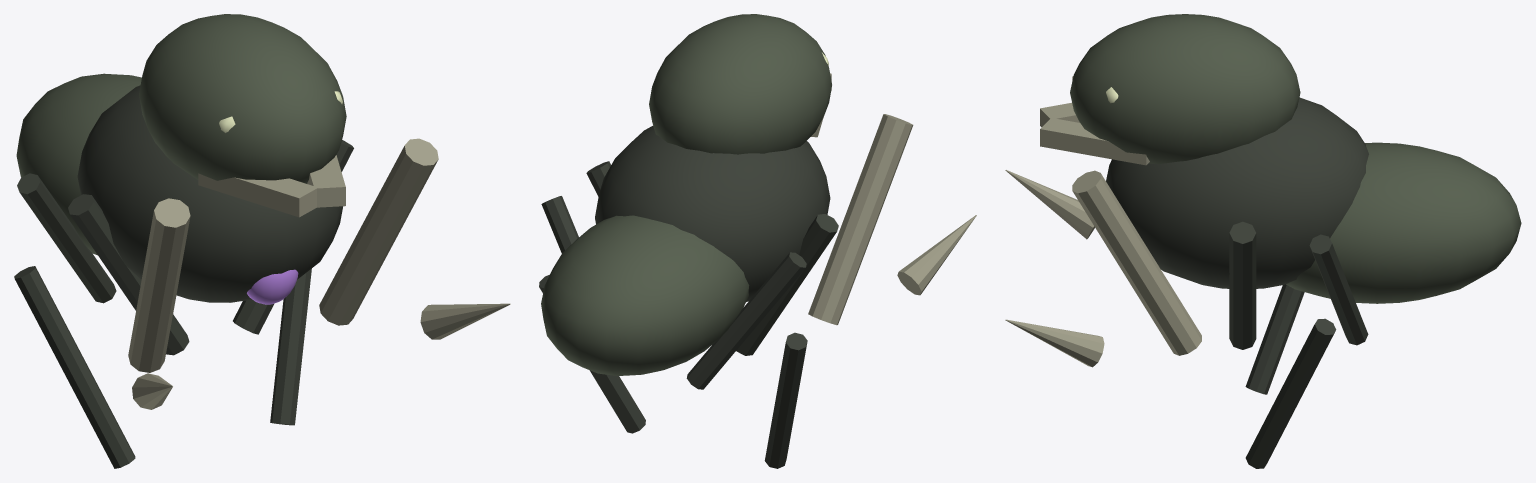
The model's file is XCOM_Chryssalid.fbx.
The picture shows the model from 3 angles, left to right: view 1: azimuth 30°, elevation 25°; view 2: azimuth 150°, elevation 25°; view 3: azimuth 270°, elevation 25°; orthographic projection. The views are drawn at different scales.
Parts seen in each view (by area): view 1: XCOM_Chryssalid; view 2: XCOM_Chryssalid; view 3: XCOM_Chryssalid.
Boxes of the visible parts, box(x1,y1,x2,y2) form: XCOM_Chryssalid: box(14, 14, 510, 468); XCOM_Chryssalid: box(539, 14, 976, 468); XCOM_Chryssalid: box(1005, 14, 1521, 468).
Size of the model in its own units: 0.7398 by 0.9366 by 1.07.
